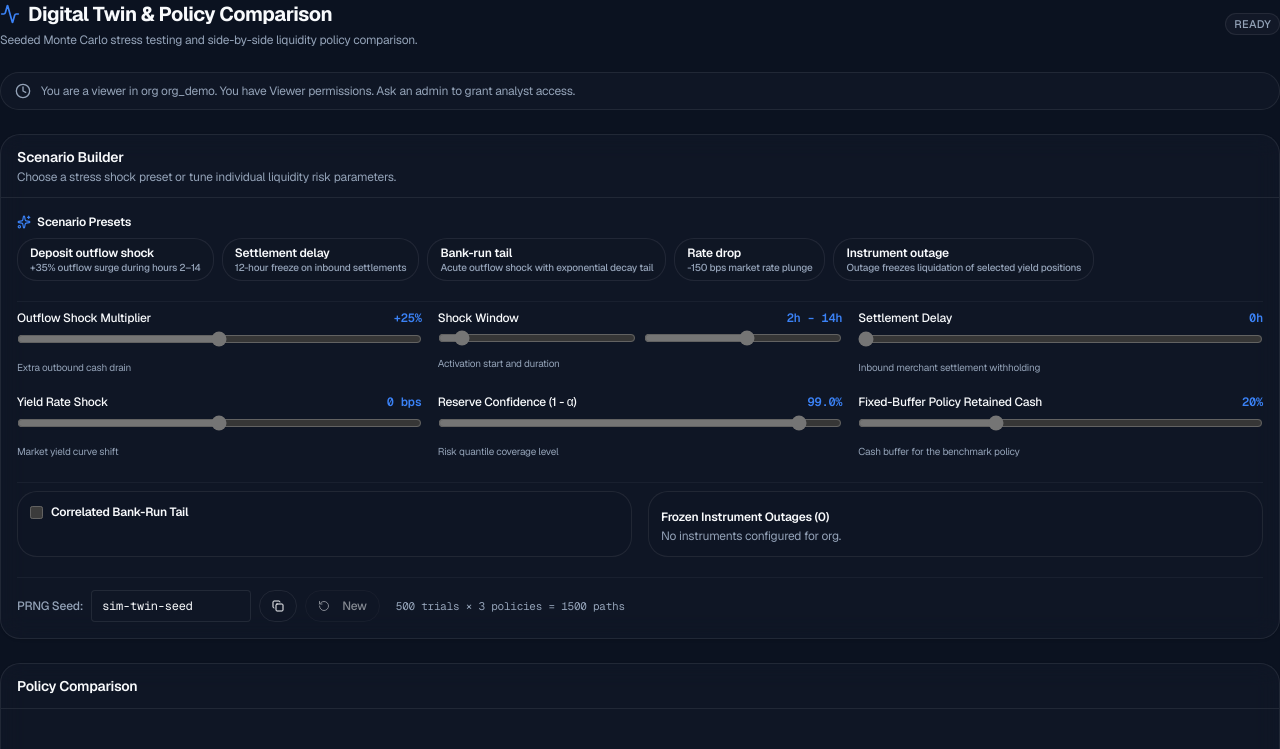
Scenario: Digital Twin Page (/twin) › renders scenario presets and clicking a preset updates controls
Expected: the text "Scenario Presets" is shown, [17, 214, 131, 230]
Note: Click bank-run preset
What coordinates should you click on to do the following:
click the text "Bank-run tail"
I would click on:
 (476, 253)
Its box is [440, 245, 512, 261].
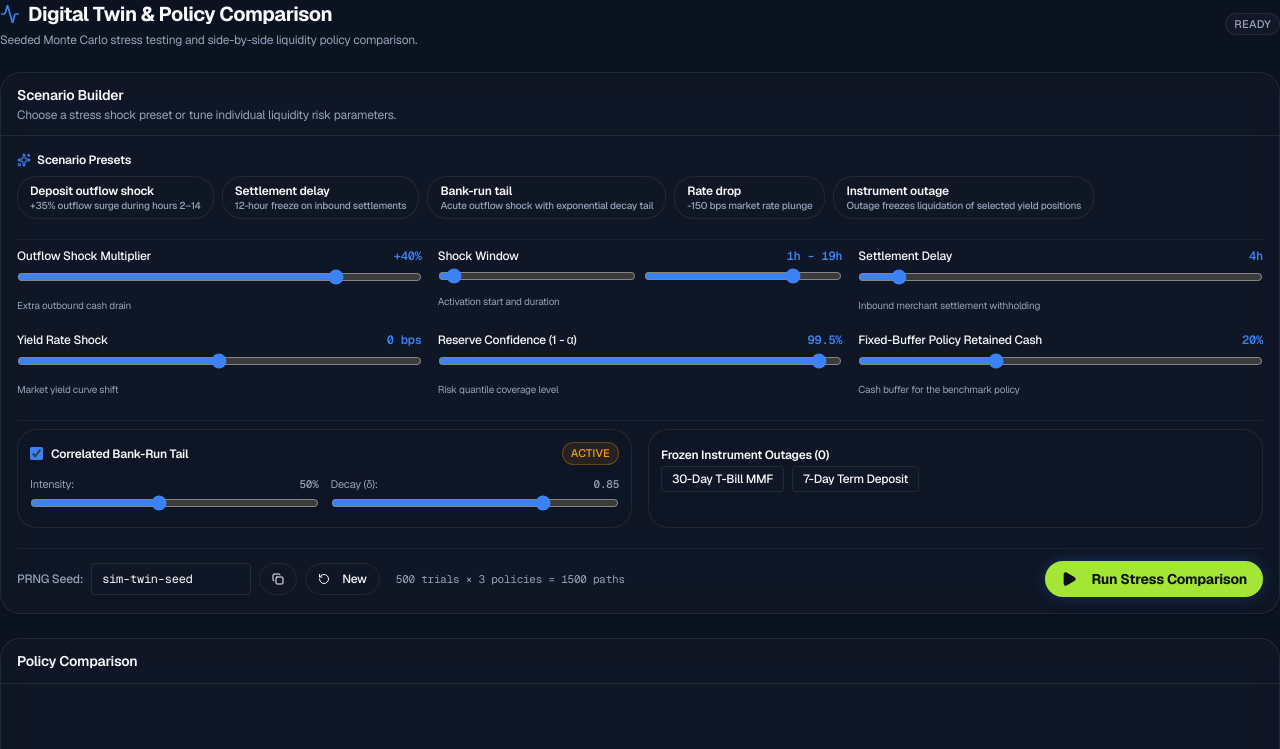
Expected: the text "Correlated Bank-Run Tail" is shown, [30, 446, 188, 462]
Expected: the text "Active" is shown, [562, 442, 619, 465]
